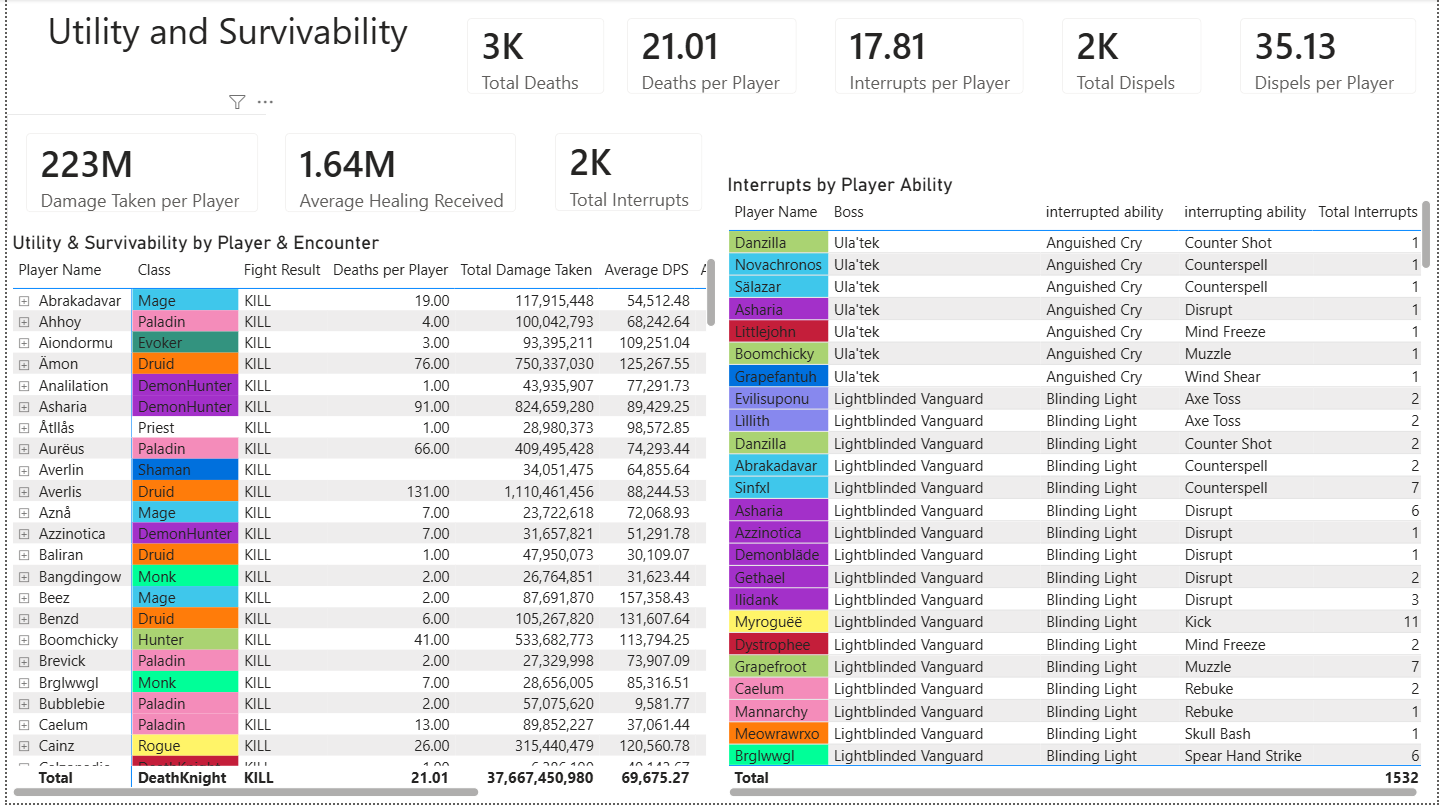

The dashboard page shown, as its layout file describes it:
{"tool":"powerbi","page":{"name":"Utility & Survivability","canvas":[1280,720],"ordinal":3},"visuals":[{"type":"cardVisual","fields":{"Data":["player_death_events.Total Deaths"]},"box":[394.9,0,157.6,103],"z":0},{"type":"cardVisual","fields":{"Data":["player_death_events.Deaths per Player"]},"box":[538.2,0,186.3,103],"z":1000},{"type":"cardVisual","fields":{"Data":["player_interrupt_events_FINAL.Interrupts per Player"]},"box":[724.5,0,203.3,103],"z":2000},{"type":"cardVisual","fields":{"Data":["player_interrupt_events_FINAL.Total Interrupts"]},"box":[473.7,103,166.6,104.8],"z":3000},{"type":"cardVisual","fields":{"Data":["player_dispel_events_FINAL.Total Dispels"]},"box":[927.8,0,159.4,103],"z":4000},{"type":"cardVisual","fields":{"Data":["player_dispel_events_FINAL.Dispels per Player"]},"box":[1087.2,0,192.5,103],"z":5000},{"type":"cardVisual","fields":{"Data":["player_fight_master_COMPLETE.Damage Taken per Player"]},"box":[0,103,242.7,105.7],"z":6000},{"type":"cardVisual","fields":{"Data":["player_healing_received_events_COMPLETE.Average Healing Received"]},"box":[231.9,103,241.8,105.7],"z":7000},{"type":"pivotTable","title":"Utility & Survivability by Player & Encounter","fields":{"Rows":["DimPlayer.Player Name","DimFight.Fight Name","DimFight.Fight ID"],"Values":["Min(DimPlayer.Class)","Min(DimFight.Fight Result)","player_death_events.Deaths per Player","player_fight_master_COMPLETE.Total Damage Taken","player_fight_master_COMPLETE.Average DPS","player_healing_received_events_COMPLETE.Average Healing Received","player_interrupt_events_FINAL.Interrupts per Player","player_dispel_events_FINAL.Dispels per Player"]},"box":[0,207.8,640.3,512.2],"z":8000},{"type":"tableEx","title":"Interrupts by Player Ability","fields":{"Values":["DimPlayer.Player Name","DimFight.Fight Name","player_interrupt_events_FINAL.interrupted_ability","player_interrupt_events_FINAL.interrupting_ability","player_interrupt_events_FINAL.Total Interrupts"]},"box":[640.4,155.9,639.6,564.3],"z":9000},{"type":"textbox","box":[0,0,394.9,82.4],"z":10000}]}

Visuals, with their boxes in screenshot pixels (x1, y1, x2, y2), scaled from the page's 1280x720 canvas onto the 1439x805 screenshot:
cardVisual - player_death_events.Total Deaths: [444,0,621,115]
cardVisual - player_death_events.Deaths per Player: [605,0,814,115]
cardVisual - player_interrupt_events_FINAL.Interrupts per Player: [814,0,1043,115]
cardVisual - player_interrupt_events_FINAL.Total Interrupts: [533,115,720,232]
cardVisual - player_dispel_events_FINAL.Total Dispels: [1043,0,1222,115]
cardVisual - player_dispel_events_FINAL.Dispels per Player: [1222,0,1438,115]
cardVisual - player_fight_master_COMPLETE.Damage Taken per Player: [0,115,273,233]
cardVisual - player_healing_received_events_COMPLETE.Average Healing Received: [261,115,533,233]
"Utility & Survivability by Player & Encounter" pivotTable: [0,232,720,804]
"Interrupts by Player Ability" tableEx: [720,174,1438,804]
textbox: [0,0,444,92]
